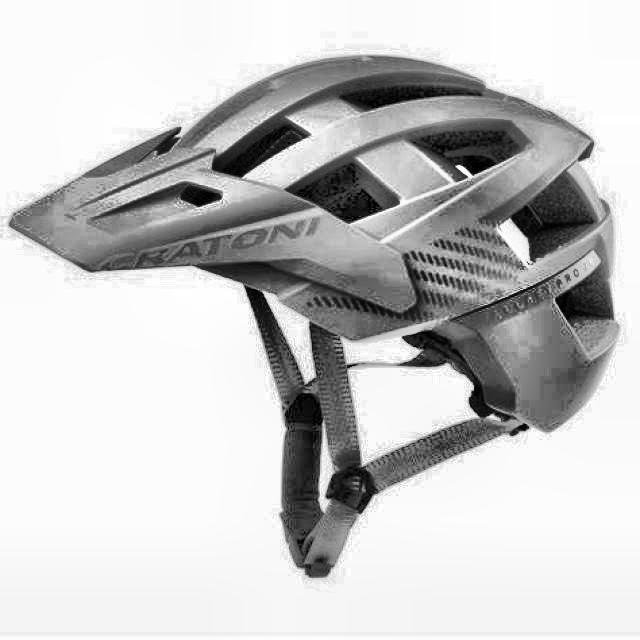Helmet: (2, 42, 626, 587)
